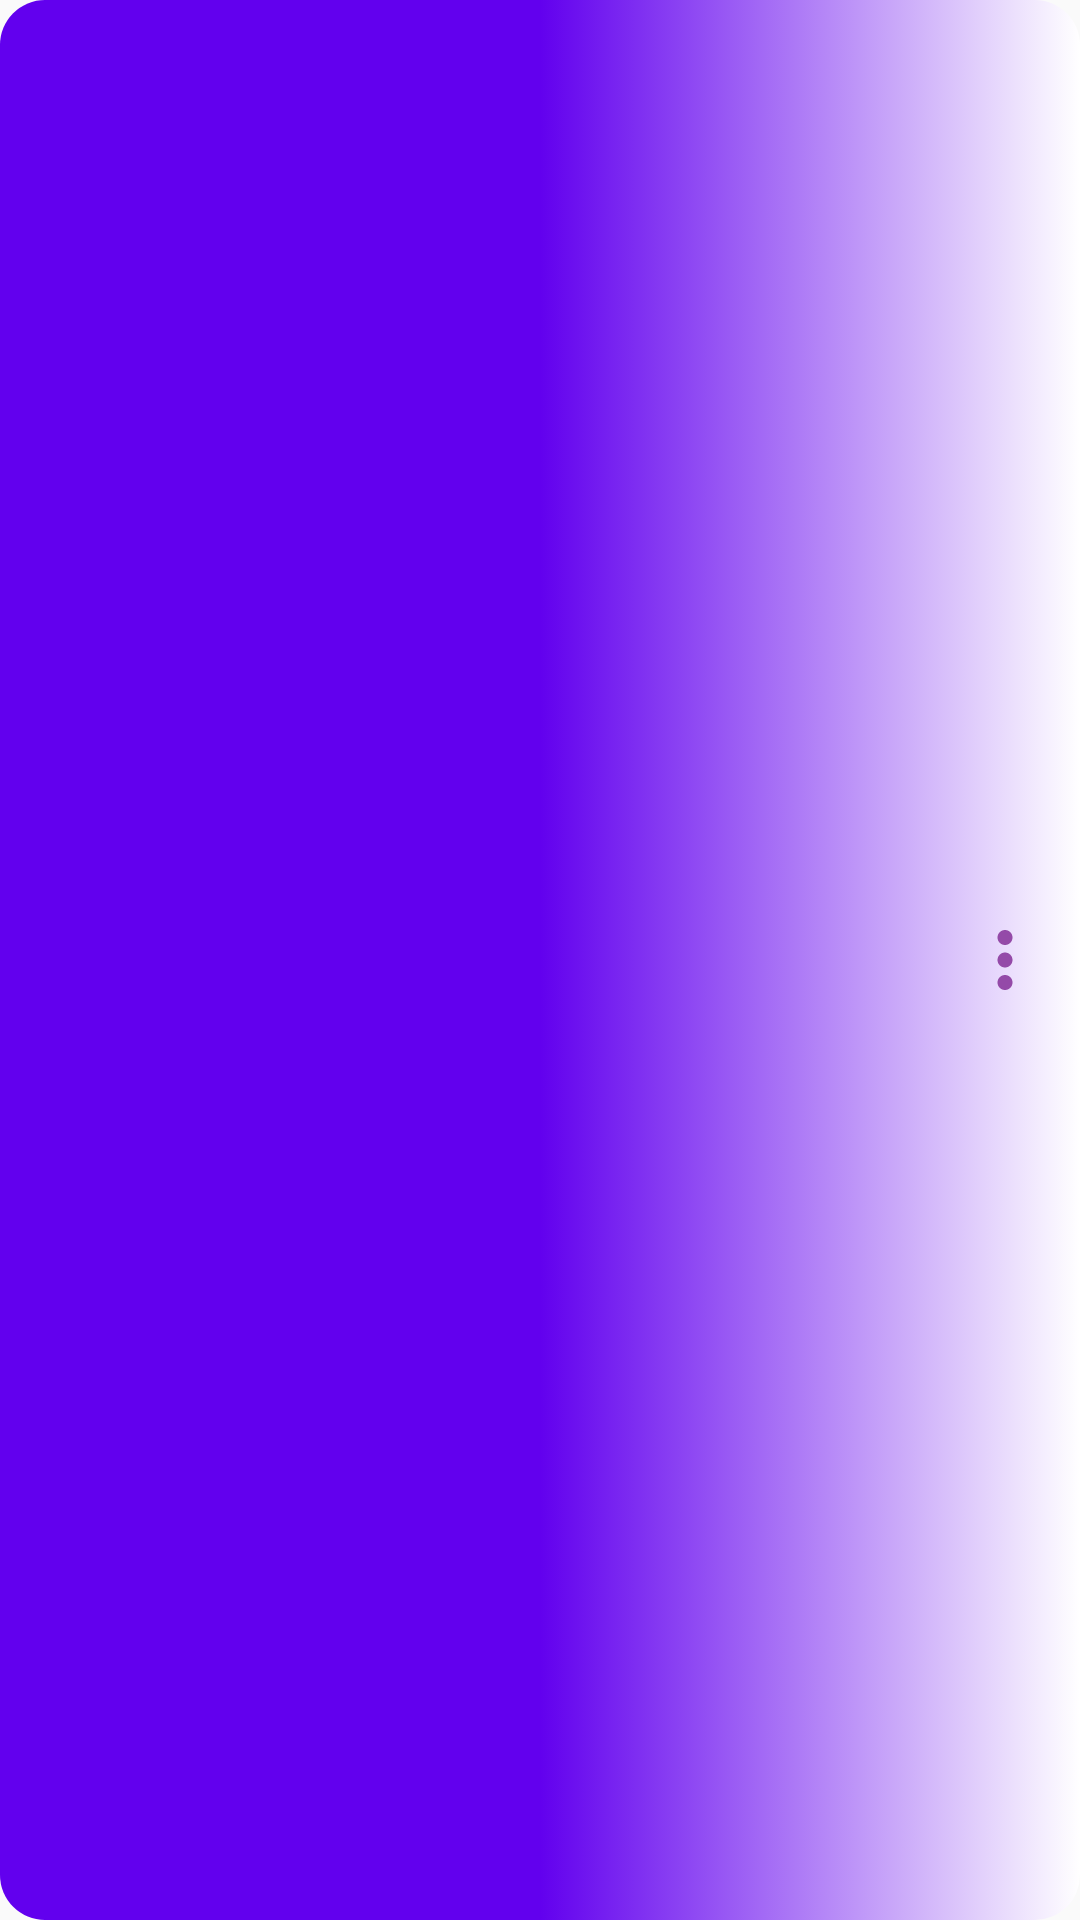

Icons on this 1080x1920 Android screen, each with the point to tap as point (x, y):
more vert: point (1005, 960)
